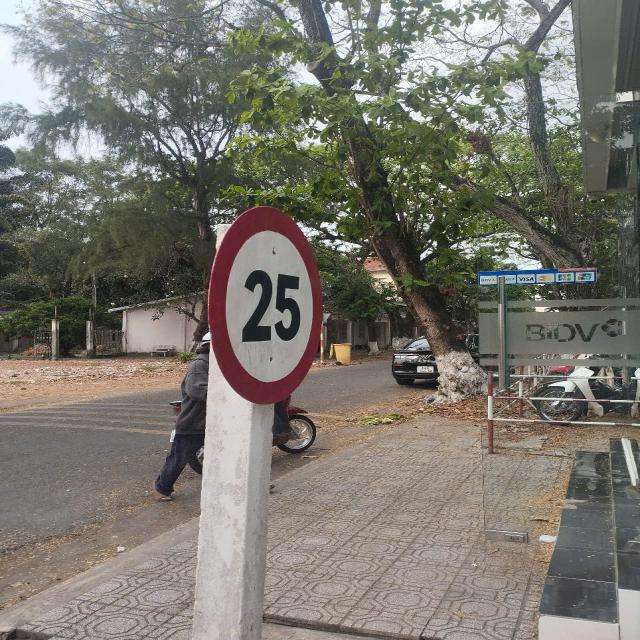Tre_Em: (204, 205, 324, 406)
